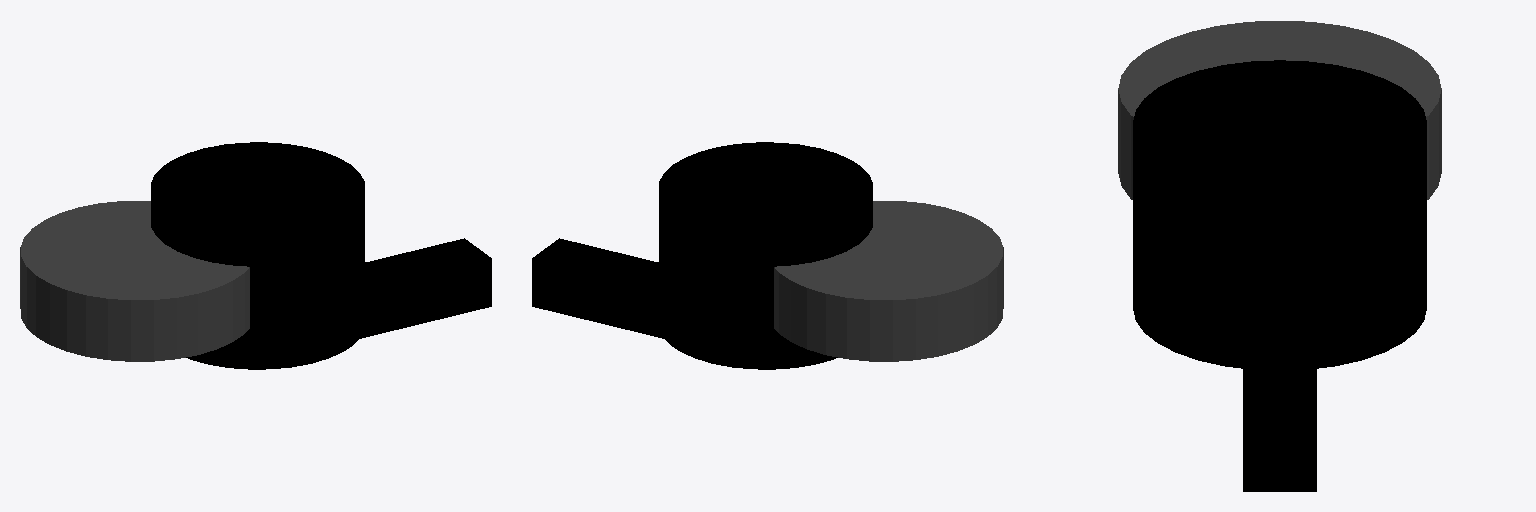
robot.urdf — turtlebot3_waffle:
<?xml version="1.0" ?>
<robot name="turtlebot3_waffle" xmlns:xacro="http://ros.org/wiki/xacro">

  <!-- 색상 정의 -->
  <material name="black"><color rgba="0.0 0.0 0.0 1.0"/></material>
  <material name="dark"><color rgba="0.3 0.3 0.3 1.0"/></material>
  <material name="light_black"><color rgba="0.4 0.4 0.4 1.0"/></material>
  <material name="blue"><color rgba="0.0 0.0 0.8 1.0"/></material>
  <material name="green"><color rgba="0.0 0.8 0.0 1.0"/></material>
  <material name="grey"><color rgba="0.5 0.5 0.5 1.0"/></material>
  <material name="orange"><color rgba="1.0 0.4235 0.0392 1.0"/></material>
  <material name="brown"><color rgba="0.8706 0.8118 0.7647 1.0"/></material>
  <material name="red"><color rgba="0.8 0.0 0.0 1.0"/></material>
  <material name="white"><color rgba="1.0 1.0 1.0 1.0"/></material>

  <!-- Base -->
  <link name="base_footprint"/>
  
  <joint name="base_joint" type="fixed">
    <parent link="base_footprint"/>
    <child link="base_link"/>
    <origin xyz="0 0 0.010" rpy="0 0 0"/>
  </joint>

  <link name="base_link">
    <visual>
      <origin xyz="-0.064 0 0.0" rpy="0 0 0"/>
      <geometry>
        <mesh filename="package://turtlebot3_description/meshes/bases/waffle_base.stl" scale="0.001 0.001 0.001"/>
      </geometry>
      <material name="light_black"/>
    </visual>
    <collision>
      <origin xyz="-0.064 0 0.047" rpy="0 0 0"/>
      <geometry>
        <box size="0.266 0.266 0.094"/>
      </geometry>
    </collision>
    <inertial>
      <origin xyz="-0.03 0 0.03"/>
      <mass value="1.5"/>
      <inertia ixx="0.015" ixy="0.0" ixz="0.0"
               iyy="0.015" iyz="0.0" izz="0.015"/>
    </inertial>
  </link>

  <!-- Left Wheel -->
  <joint name="wheel_left_joint" type="continuous">
    <parent link="base_link"/>
    <child link="wheel_left_link"/>
    <origin xyz="0.0 0.144 0.023" rpy="-1.57 0 0"/>
    <axis xyz="0 0 1"/>
  </joint>

  <link name="wheel_left_link">
    <visual>
      <origin xyz="0 0 0" rpy="1.57 0 0"/>
      <geometry>
        <mesh filename="package://turtlebot3_description/meshes/wheels/left_tire.stl" scale="0.001 0.001 0.001"/>
      </geometry>
      <material name="dark"/>
    </visual>
    <collision>
      <origin xyz="0 0 0" rpy="0 0 0"/>
      <geometry>
        <cylinder length="0.018" radius="0.033"/>
      </geometry>
    </collision>
    <inertial>
      <origin xyz="0 0 0"/>
      <mass value="0.1"/>
      <inertia ixx="0.001" ixy="0.0" ixz="0.0"
               iyy="0.001" iyz="0.0" izz="0.001"/>
    </inertial>
  </link>

  <!-- Right Wheel -->
  <joint name="wheel_right_joint" type="continuous">
    <parent link="base_link"/>
    <child link="wheel_right_link"/>
    <origin xyz="0.0 -0.144 0.023" rpy="-1.57 0 0"/>
    <axis xyz="0 0 1"/>
  </joint>

  <link name="wheel_right_link">
    <visual>
      <origin xyz="0 0 0" rpy="1.57 0 0"/>
      <geometry>
        <mesh filename="package://turtlebot3_description/meshes/wheels/right_tire.stl" scale="0.001 0.001 0.001"/>
      </geometry>
      <material name="dark"/>
    </visual>
    <collision>
      <origin xyz="0 0 0" rpy="0 0 0"/>
      <geometry>
        <cylinder length="0.018" radius="0.033"/>
      </geometry>
    </collision>
    <inertial>
      <origin xyz="0 0 0"/>
      <mass value="0.1"/>
      <inertia ixx="0.001" ixy="0.0" ixz="0.0"
               iyy="0.001" iyz="0.0" izz="0.001"/>
    </inertial>
  </link>

  <!-- Caster Wheels -->
  <joint name="caster_back_right_joint" type="fixed">
    <parent link="base_link"/>
    <child link="caster_back_right_link"/>
    <origin xyz="-0.177 -0.064 -0.004" rpy="-1.57 0 0"/>
  </joint>
  
  <link name="caster_back_right_link">
    <inertial>
      <origin xyz="0 0 0"/>
      <mass value="0.01"/>
      <inertia ixx="0.0001" ixy="0.0" ixz="0.0"
               iyy="0.0001" iyz="0.0" izz="0.0001"/>
    </inertial>
  </link>

  <joint name="caster_back_left_joint" type="fixed">
    <parent link="base_link"/>
    <child link="caster_back_left_link"/>
    <origin xyz="-0.177 0.064 -0.004" rpy="-1.57 0 0"/>
  </joint>
  
  <link name="caster_back_left_link">
    <inertial>
      <origin xyz="0 0 0"/>
      <mass value="0.01"/>
      <inertia ixx="0.0001" ixy="0.0" ixz="0.0"
               iyy="0.0001" iyz="0.0" izz="0.0001"/>
    </inertial>
  </link>

  <!-- 2D LiDAR - Collision 제거! -->
  <joint name="scan_joint" type="fixed">
    <parent link="base_link"/>
    <child link="base_scan"/>
    <origin xyz="-0.064 0 0.122" rpy="0 0 0"/>
  </joint>
  
  <link name="base_scan">
    <visual>
      <origin xyz="0 0 0" rpy="0 0 0"/>
      <geometry>
        <cylinder length="0.0315" radius="0.055"/>
      </geometry>
      <material name="dark"/>
    </visual>
    <!-- ✅ collision 제거! 센서끼리 감지 방지 -->
    <inertial>
      <origin xyz="0 0 0"/>
      <mass value="0.114"/>
      <inertia ixx="0.001" ixy="0.0" ixz="0.0"
               iyy="0.001" iyz="0.0" izz="0.001"/>
    </inertial>
  </link>

  <!-- 2D LiDAR Gazebo Plugin -->
  <gazebo reference="base_scan">
    <sensor type="ray" name="lds_lfcd_sensor">
      <pose>0 0 0 0 0 0</pose>
      <visualize>false</visualize>
      <update_rate>5</update_rate>
      <ray>
        <scan>
          <horizontal>
            <samples>360</samples>
            <resolution>1</resolution>
            <min_angle>0.0</min_angle>
            <max_angle>6.28319</max_angle>
          </horizontal>
        </scan>
        <range>
          <min>0.6</min>          <!-- 0.12 → 0.15 (카메라 피하기) -->
          <max>3.5</max>
          <resolution>0.015</resolution>
        </range>
        <noise>
          <type>gaussian</type>
          <mean>0.0</mean>
          <stddev>0.01</stddev>
        </noise>
      </ray>
      <plugin name="gazebo_ros_lds_lfcd_controller" filename="libgazebo_ros_ray_sensor.so">
        <ros>
          <remapping>~/out:=/scan</remapping>
        </ros>
        <output_type>sensor_msgs/LaserScan</output_type>
        <frame_name>base_scan</frame_name>
      </plugin>
    </sensor>
  </gazebo>

  <!-- Center Depth Camera - Collision 제거! -->
  <joint name="depth_camera_joint" type="fixed">
    <parent link="base_link"/>
    <child link="depth_camera_link"/>
    <origin xyz="0.073 0 0.084" rpy="0 0 1.5708"/>
  </joint>
  
  <link name="depth_camera_link">
    <visual>
      <origin xyz="0 0 0" rpy="0 0 0"/>
      <geometry>
        <box size="0.025 0.09 0.025"/>
      </geometry>
      <material name="black"/>
    </visual>
    <!-- ✅ collision 제거! 센서끼리 감지 방지 -->
    <inertial>
      <origin xyz="0 0 0"/>
      <mass value="0.1"/>
      <inertia ixx="0.0001" ixy="0.0" ixz="0.0"
               iyy="0.0001" iyz="0.0" izz="0.0001"/>
    </inertial>
  </link>

  <gazebo reference="depth_camera_link">
    <sensor type="depth" name="depth_camera_sensor">
      <update_rate>30.0</update_rate>
      <camera>
        <horizontal_fov>1.047198</horizontal_fov>
        <image>
          <width>640</width>
          <height>480</height>
          <format>R8G8B8</format>
        </image>
        <clip>
          <near>0.05</near>
          <far>8.0</far>
        </clip>
      </camera>
      
      <plugin name="depth_camera_controller" filename="libgazebo_ros_camera.so">
        <ros>
          <namespace>/depth_camera</namespace>
          <remapping>image_raw:=rgb/image_raw</remapping>
          <remapping>image_depth:=depth/image_raw</remapping>
          <remapping>camera_info:=rgb/camera_info</remapping>
          <remapping>depth/camera_info:=depth/camera_info</remapping>
          <remapping>points:=depth/points</remapping>
        </ros>
        <camera_name>depth_camera</camera_name>
        <frame_name>depth_camera_link</frame_name>
        <hack_baseline>0.07</hack_baseline>
        <min_depth>0.05</min_depth>
        <max_depth>8.0</max_depth>
      </plugin>
    </sensor>
  </gazebo>

  <!-- 3D LiDAR (Velodyne VLP-16) - Collision 제거! -->
  <joint name="velodyne_joint" type="fixed">
    <parent link="base_link"/>
    <child link="velodyne_link"/>
    <origin xyz="0 0 0.12" rpy="0 0 0"/>
  </joint>

  <link name="velodyne_link">
    <visual>
      <origin xyz="0 0 0" rpy="0 0 0"/>
      <geometry>
        <cylinder length="0.07" radius="0.05"/>
      </geometry>
      <material name="black"/>
    </visual>
    <!-- ✅ collision 제거! 센서끼리 감지 방지 -->
    <inertial>
      <origin xyz="0 0 0"/>
      <mass value="0.5"/>
      <inertia ixx="0.001" ixy="0.0" ixz="0.0"
               iyy="0.001" iyz="0.0" izz="0.001"/>
    </inertial>
  </link>

  <!-- 3D LiDAR Gazebo Plugin -->
  <gazebo reference="velodyne_link">
    <sensor type="ray" name="velodyne_sensor">
      <pose>0 0 0 0 0 0</pose>
      <visualize>false</visualize>
      <update_rate>10</update_rate>
      <ray>
        <scan>
          <horizontal>
            <samples>440</samples>
            <resolution>1</resolution>
            <min_angle>-3.14159</min_angle>
            <max_angle>3.14159</max_angle>
          </horizontal>
          <vertical>
            <samples>16</samples>
            <resolution>1</resolution>
            <min_angle>-0.261799</min_angle>
            <max_angle>0.261799</max_angle>
          </vertical>
        </scan>
        <range>
          <min>0.6</min>              <!-- 0.5 → 0.15 (센서 간 거리 고려) -->
          <max>20.0</max>              <!-- 100.0 → 20.0 (현실적 범위) -->
          <resolution>0.01</resolution>
        </range>
        <noise>
          <type>gaussian</type>
          <mean>0.0</mean>
          <stddev>0.005</stddev>      <!-- 0.01 → 0.005 (노이즈 감소) -->
        </noise>
      </ray>
      <plugin name="gazebo_ros_velodyne" filename="libgazebo_ros_ray_sensor.so">
        <ros>
          <remapping>~/out:=/velodyne_points</remapping>
        </ros>
        <output_type>sensor_msgs/PointCloud2</output_type>
        <frame_name>velodyne_link</frame_name>
      </plugin>
    </sensor>
  </gazebo>
  <!-- =================================================== -->
  <!--         ★ Invisible Center RGB Camera (FINAL)       -->
  <!-- =================================================== -->

  <joint name="camera_center_joint" type="fixed">
    <parent link="base_link"/>
    <child link="camera_center_link"/>
    <origin xyz="0 0 0.15" rpy="0 0 0"/>
  </joint>

  <link name="camera_center_link">
    <inertial>
      <origin xyz="0 0 0"/>
      <mass value="0.01"/>
      <inertia ixx="0.0001" ixy="0" ixz="0"
               iyy="0.0001" iyz="0" izz="0.0001"/>
    </inertial>
  </link>

  <!-- Optical frame for camera -->
  <joint name="camera_center_optical_joint" type="fixed">
    <parent link="camera_center_link"/>
    <child link="camera_center_optical_frame"/>
    <origin xyz="0 0 0" rpy="-1.5708 0 -1.5708"/>
  </joint>

  <link name="camera_center_optical_frame">
  </link>

  <gazebo reference="camera_center_link">
    <sensor type="camera" name="camera_center_sensor">
      <update_rate>30</update_rate>
      <camera>
        <horizontal_fov>1.2</horizontal_fov>
        <image>
          <width>640</width>
          <height>480</height>
          <format>R8G8B8</format>
        </image>
        <clip>
          <near>0.05</near>
          <far>10.0</far>
        </clip>
      </camera>

      <plugin name="camera_center_plugin" filename="libgazebo_ros_camera.so">
        <camera_name>camera_center</camera_name>
        <ros>
          <namespace>/camera_center</namespace>
          <remapping>image_raw:=image_raw</remapping>
          <remapping>camera_info:=camera_info</remapping>
        </ros>
        <frame_name>camera_center_optical_frame</frame_name>
      </plugin>
    </sensor>
  </gazebo>


  <!-- Diff Drive Plugin -->
  <gazebo>
    <plugin name="diff_drive" filename="libgazebo_ros_diff_drive.so">
      <update_rate>30</update_rate>
      <left_joint>wheel_left_joint</left_joint>
      <right_joint>wheel_right_joint</right_joint>
      <wheel_separation>0.288</wheel_separation>
      <wheel_diameter>0.066</wheel_diameter>
      <max_wheel_torque>20</max_wheel_torque>
      <max_wheel_acceleration>1.0</max_wheel_acceleration>
      <publish_odom>true</publish_odom>
      <publish_odom_tf>true</publish_odom_tf>
      <publish_wheel_tf>false</publish_wheel_tf>
      <odometry_frame>odom</odometry_frame>
      <robot_base_frame>base_footprint</robot_base_frame>
    </plugin>
  </gazebo>

</robot>

--- What the picture shows (computed from the rendered views, not written in the file) ---
Views: 3 orthographic renders of the robot side by side, from view 1: azimuth 30°, elevation 25°; view 2: azimuth 150°, elevation 25°; view 3: azimuth 270°, elevation 25°.
Model turtlebot3_waffle with 11 links and 10 joints (2 continuous, 8 fixed), rooted at base_footprint, posed every joint at zero.
Links seen in each view (by area): view 1: velodyne_link, base_scan, depth_camera_link; view 2: velodyne_link, base_scan, depth_camera_link; view 3: velodyne_link, base_scan, depth_camera_link.
Link boxes in pixels (x1,y1,x2,y2): velodyne_link: (151, 142, 364, 369); base_scan: (20, 201, 249, 361); depth_camera_link: (360, 238, 491, 338); velodyne_link: (659, 142, 872, 369); base_scan: (774, 201, 1003, 361); depth_camera_link: (532, 238, 663, 338); velodyne_link: (1133, 60, 1426, 368); base_scan: (1118, 21, 1441, 199); depth_camera_link: (1243, 338, 1316, 491).
Bounding box of the posed robot: 0.237 × 0.11 × 0.0835 m (x, y, z).
Meshes: 3 distinct files referenced, 0 mesh visuals loaded (none loaded); not drawn: 3 (reference not matched to a file when rendering).
